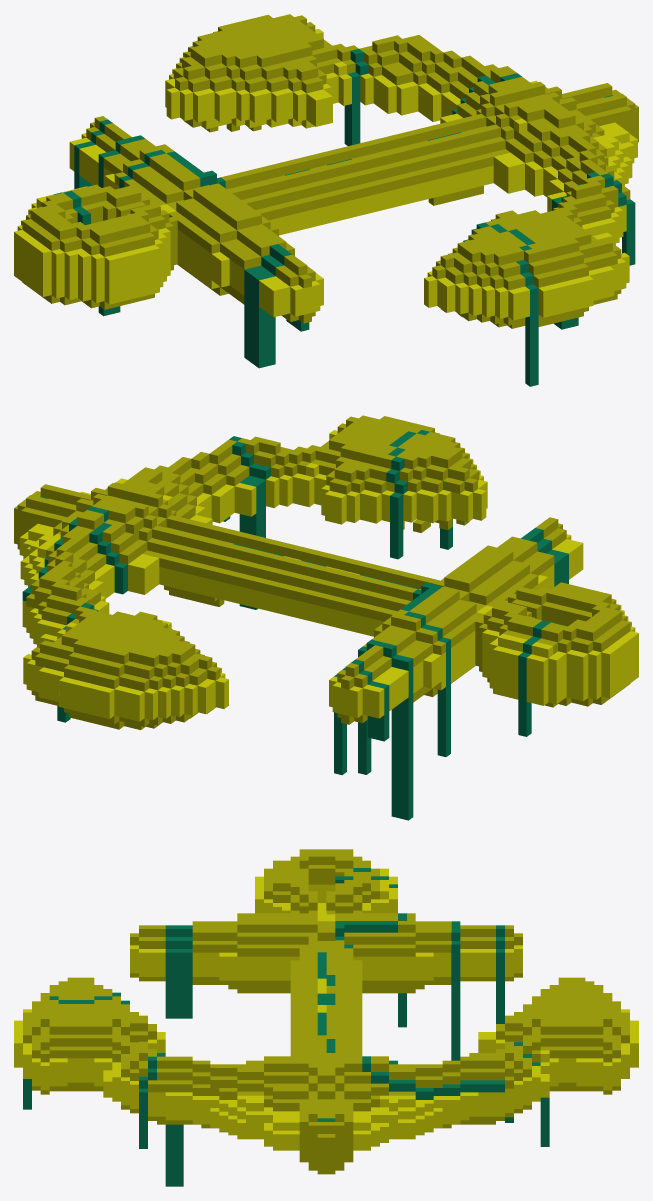
File: Ballesta.obj
3 views of the same model, one above another, from view 1: azimuth 30°, elevation 25°; view 2: azimuth 150°, elevation 25°; view 3: azimuth 270°, elevation 25° (orthographic). The views are drawn at different scales.
Bounding box in the file's own units: 7.2 × 2.1 × 7.
1 material, 1 textured.
